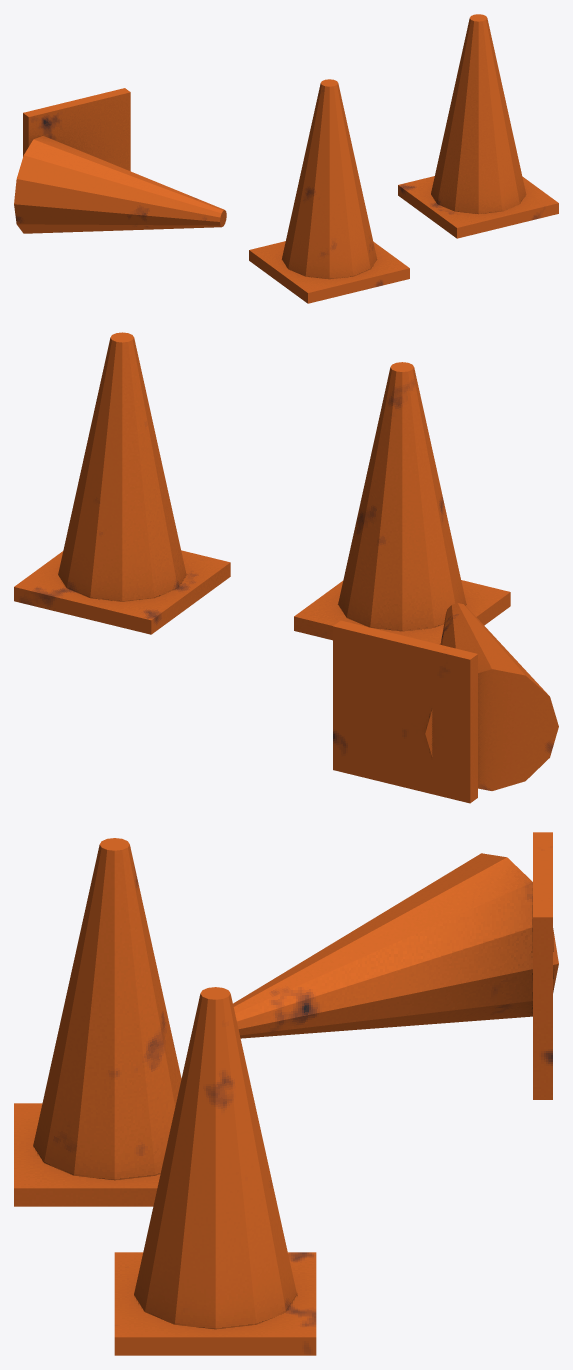
Rendered from city_cones.glb.
3 renders of one model, top to bottom at view 1: azimuth 30°, elevation 25°; view 2: azimuth 150°, elevation 25°; view 3: azimuth 270°, elevation 25°, orthographic. The views are drawn at different scales.
Visible parts, largest first — view 1: city_cones; view 2: city_cones; view 3: city_cones.
Part boxes in pixels (<box>): city_cones: <box>14,14,558,303</box>; city_cones: <box>14,332,558,803</box>; city_cones: <box>14,832,558,1355</box>.
Size of the model in its own units: 1.75 by 0.7 by 1.08.
1 material, 1 textured.
